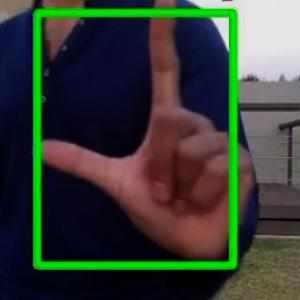land_hand: (22, 0, 266, 270)
